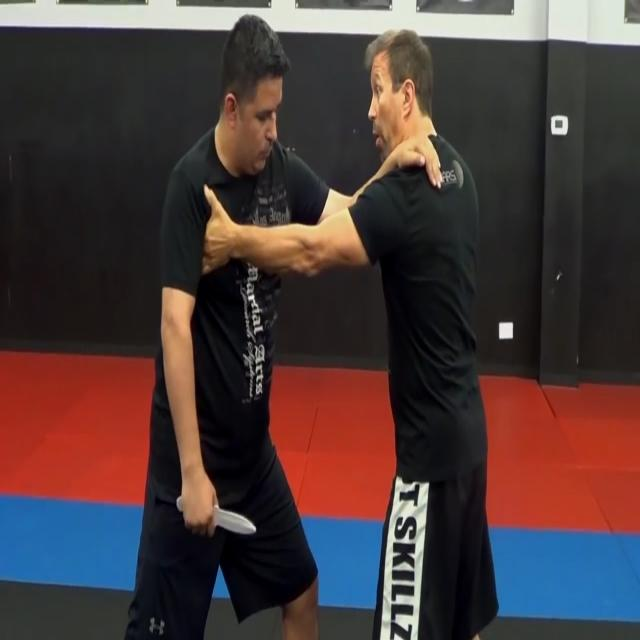knife: (178, 497, 258, 534)
